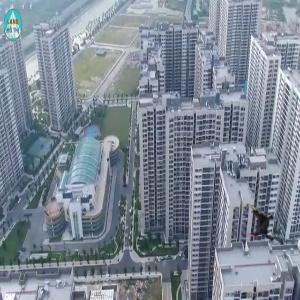drone: (241, 204, 283, 246)
